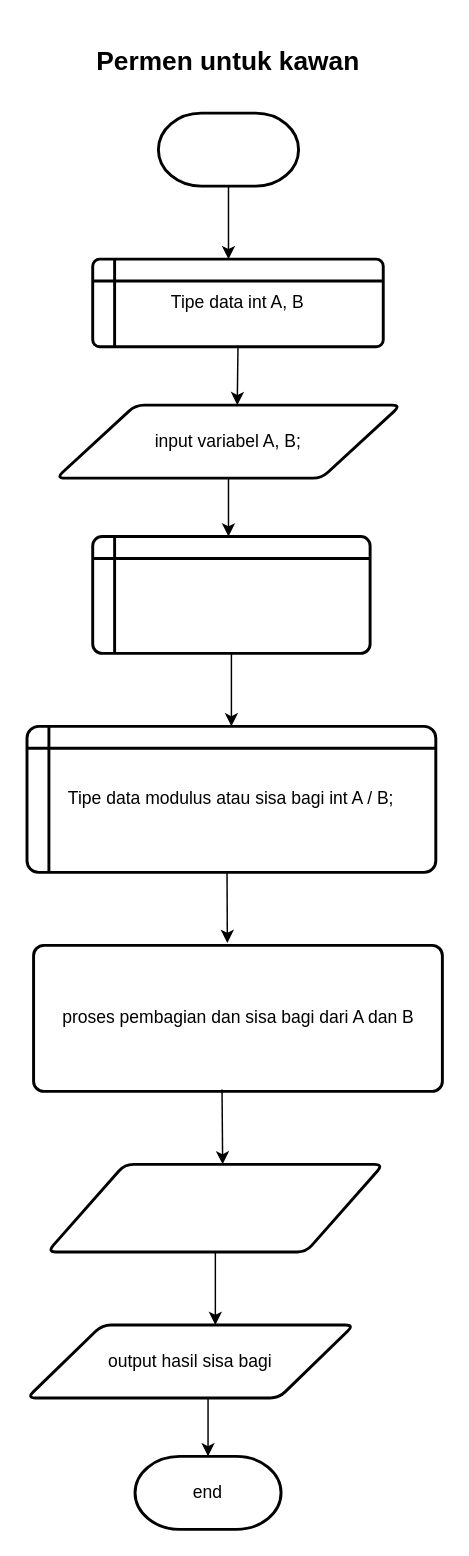
Some shapes in this 469 by 1556 pixel diagram are drawn without their labels. The centre of each missing label's shape, as x and y in pixels:
"main" goes at point (227, 149).
"output hasil pembagian" goes at point (214, 1207).
"Tipe data pembagian int A, B;" goes at point (231, 594).
